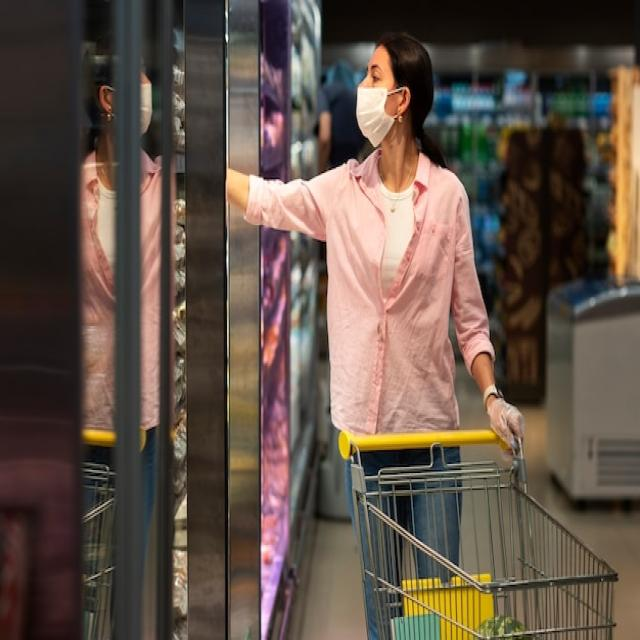Person: (227, 27, 525, 640)
